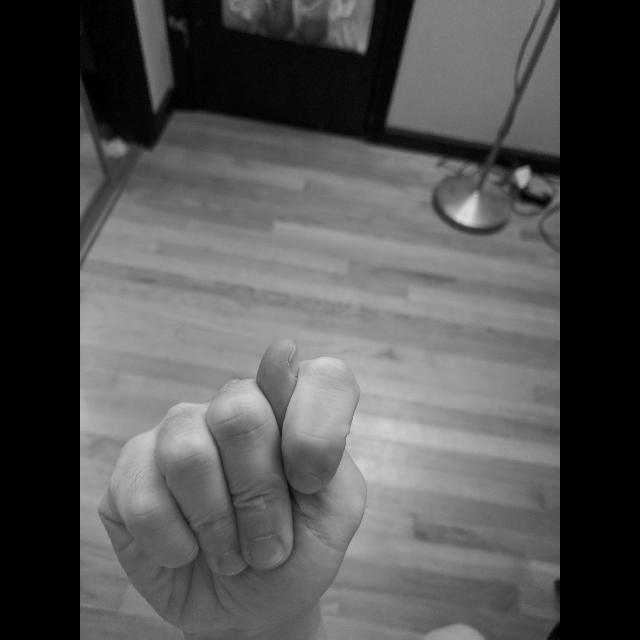T: (90, 332, 374, 640)
